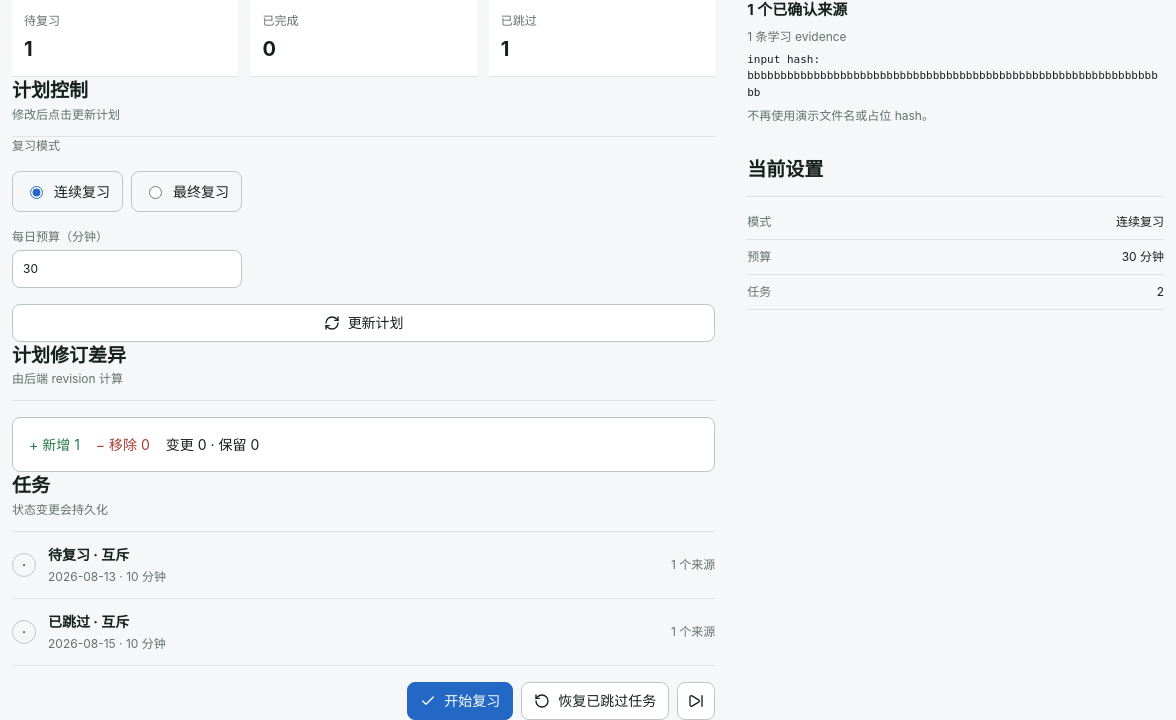
Test: ReviewView › starts the first pending task and persists completion
The image size is (1176, 720).
(page scrolled)
Expected: the text "待复习 · 互斥" is shown, [48,546,129,562]
Click the button "开始复习" at [460, 700], box [407,682,513,719]
(page scrolled)
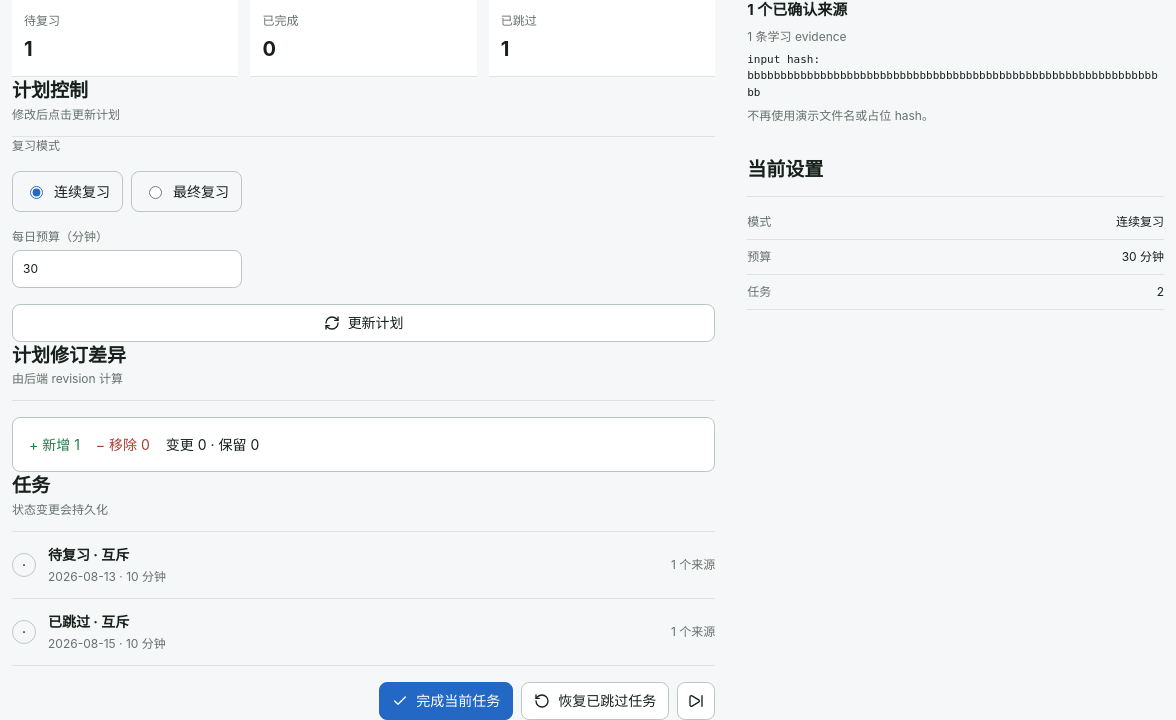
Click the button "完成当前任务" at [446, 700], box [379,682,513,719]
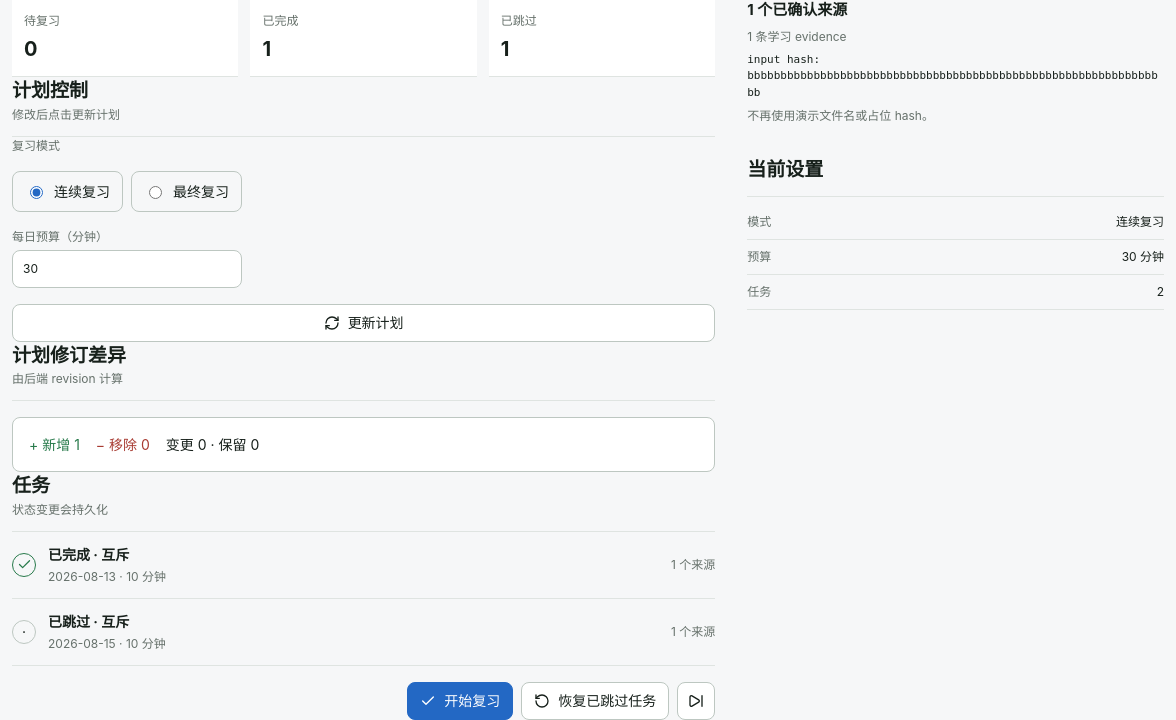
Now the text "已完成 · 互斥" is shown, box [48,546,129,562]
